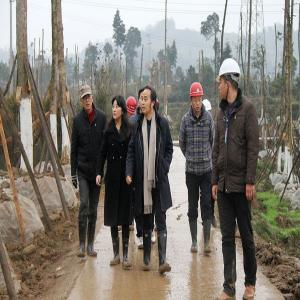none: (142, 88, 156, 115), (112, 96, 126, 120), (81, 88, 93, 112)
red: (190, 81, 205, 114), (126, 97, 138, 119)
white: (218, 58, 242, 101)
